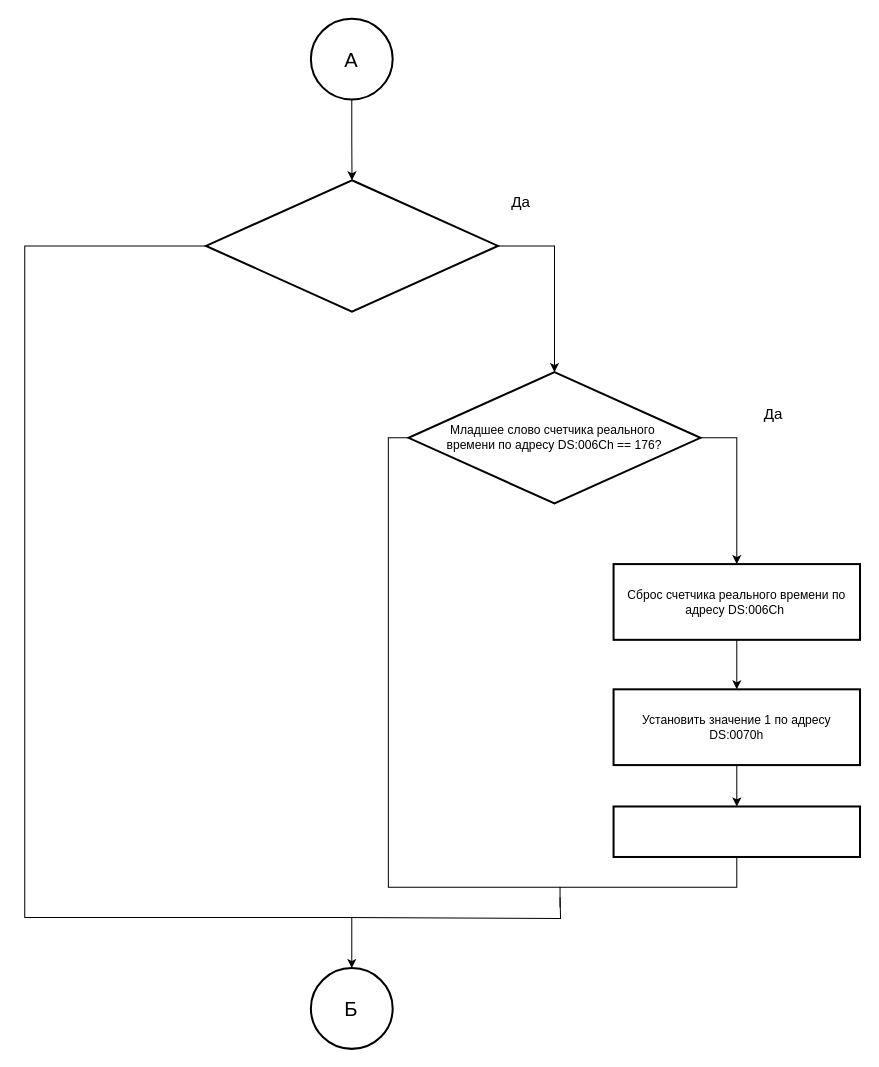
Some shapes in this 879 by 1067 pixel diagram are drawn without their labels. Here are the shapes that lost their labels. From the top down, the centre of each, then its label:
At (351,245): "Старшее слово счетчика реального времени по адресу DS:006Eh == 24?".
At (736,831): "Запись значения 8 в регистре AL".
